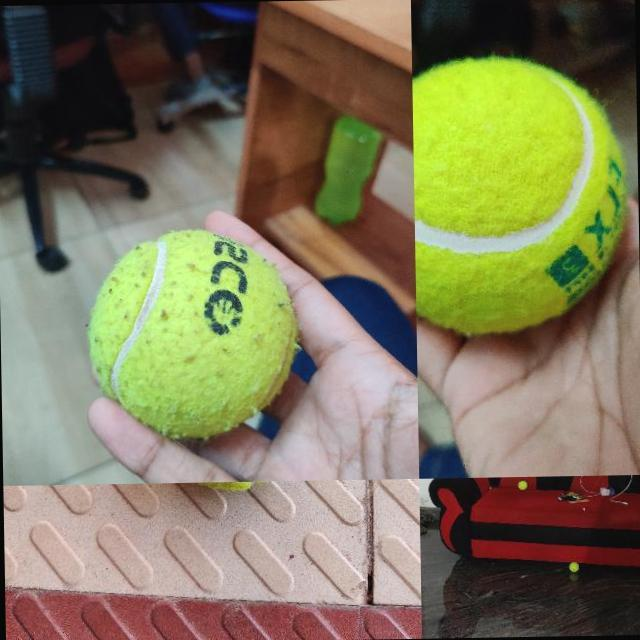Tennis Ball: (412, 54, 628, 333), (84, 226, 300, 439), (570, 560, 580, 570), (518, 480, 527, 490)
